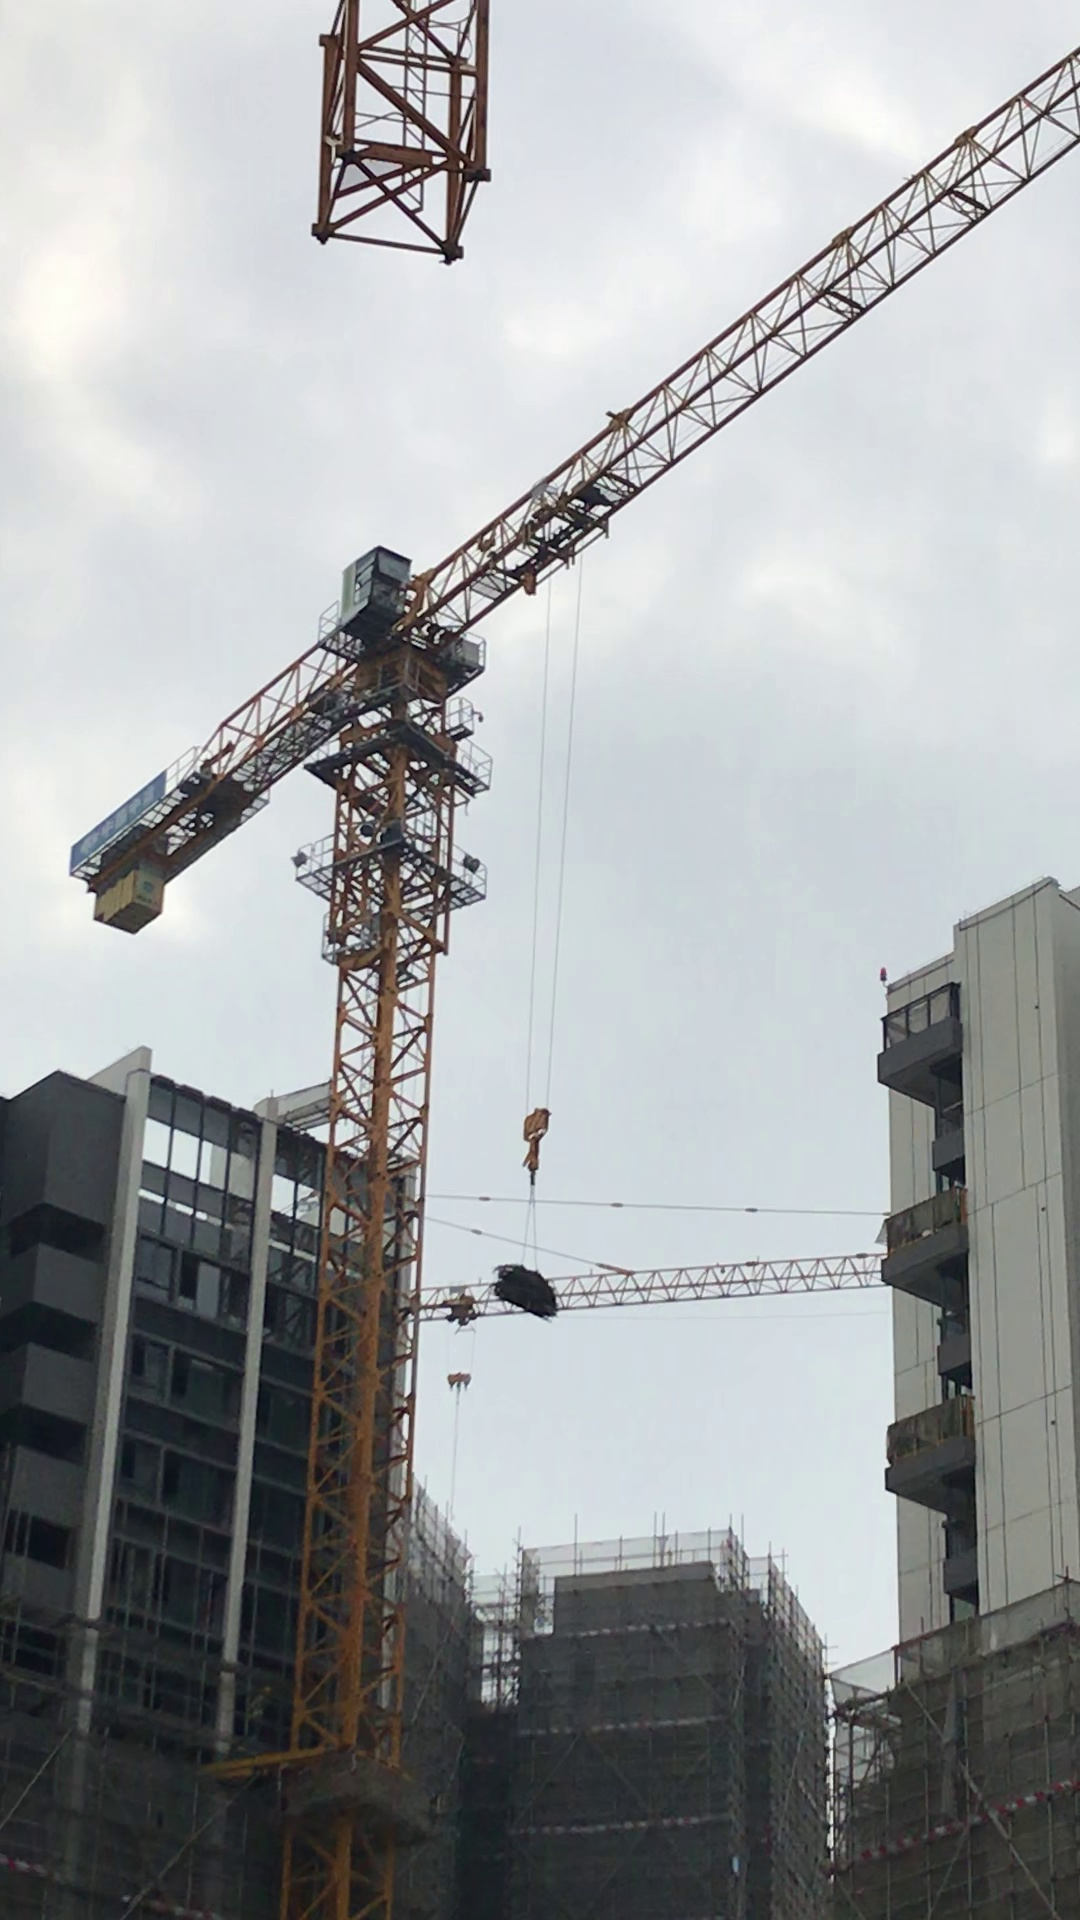board: (491, 1259, 559, 1327)
hook: (520, 1108, 554, 1185), (444, 1371, 473, 1391)
